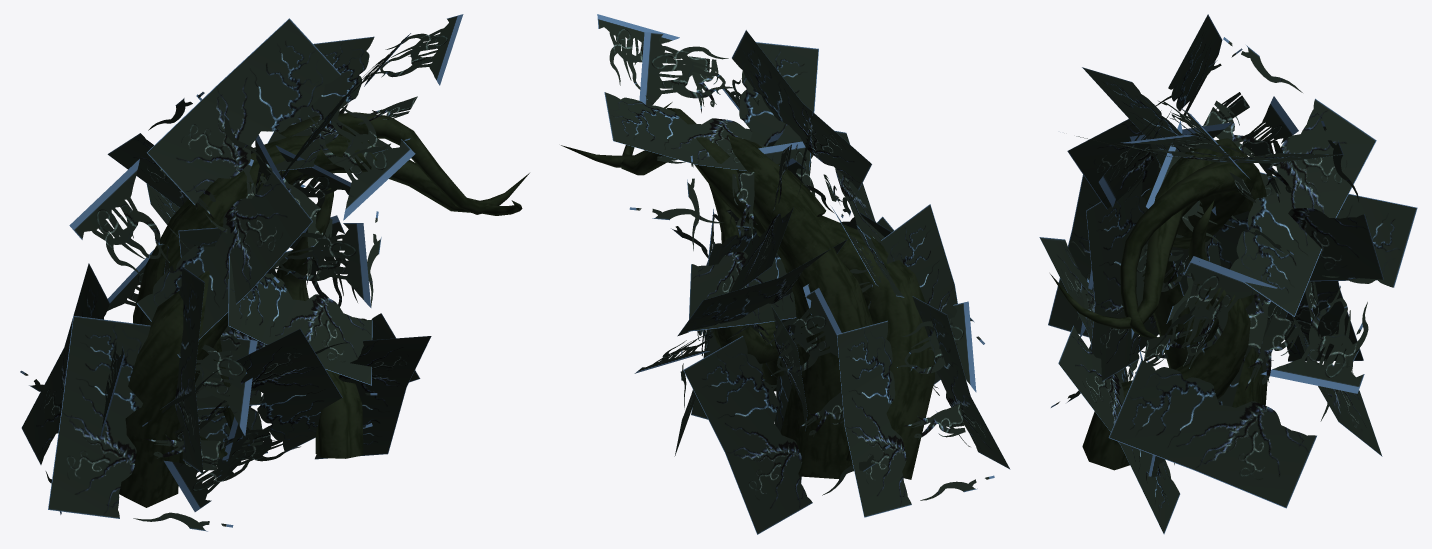
Rendered from buissons_ronces4.FBX.
3 views of the same model, side by side, from view 1: azimuth 30°, elevation 25°; view 2: azimuth 150°, elevation 25°; view 3: azimuth 270°, elevation 25° (orthographic). The views are drawn at different scales.
Visible parts, largest first — view 1: Object010; view 2: Object010; view 3: Object010.
Boxes of the visible parts, <box> form: Object010: <box>20,14,529,531</box>; Object010: <box>561,14,1010,534</box>; Object010: <box>1039,14,1417,534</box>.
Size of the model in its own units: 229 by 207 by 144.
